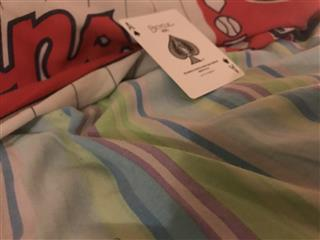AceOfSpades: (118, 8, 244, 99)
